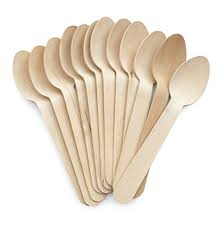Wooden Utensils: (13, 16, 201, 207)
